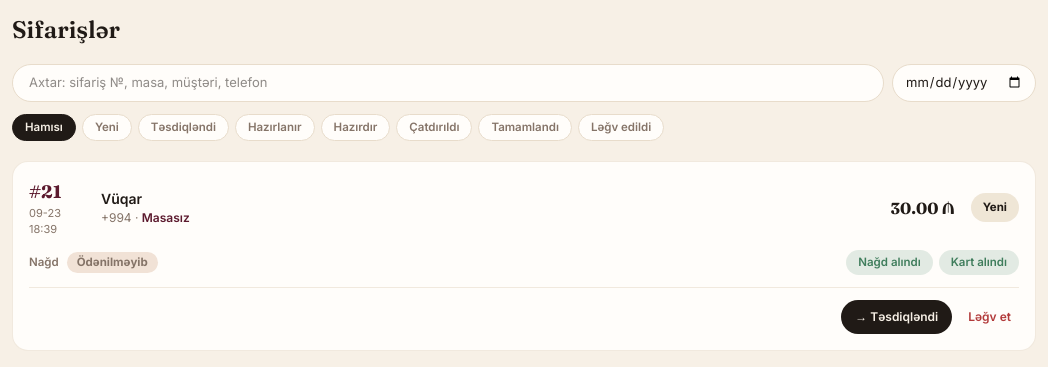
Test: OrdersAdmin: ödəniş › nağd sifarişdə "Nağd alındı" ödənişi qeyd edir və status "Ödənilib" olur
Expected: the element with test id "order-payment" shows "Ödənilməyib", [77,255,148,269]
Click the button "Nağd alındı": point(890, 262) [846,250,933,275]
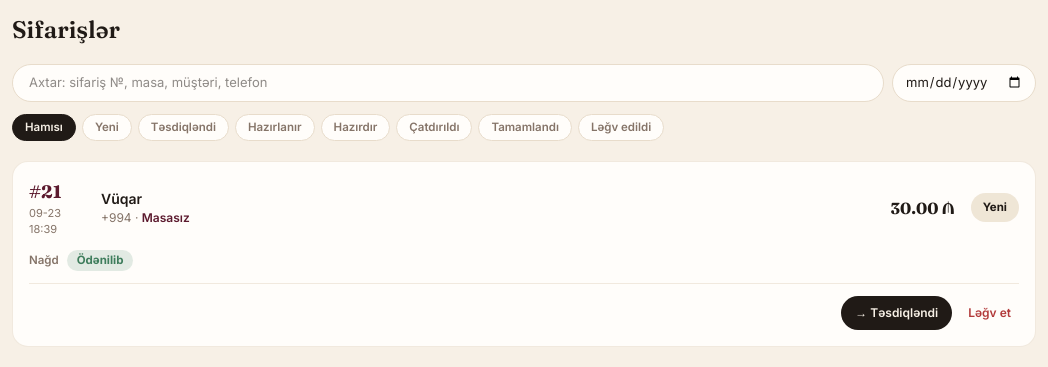
Now the element with test id "order-payment" shows "Ödənilib", box [77,253,123,267]
